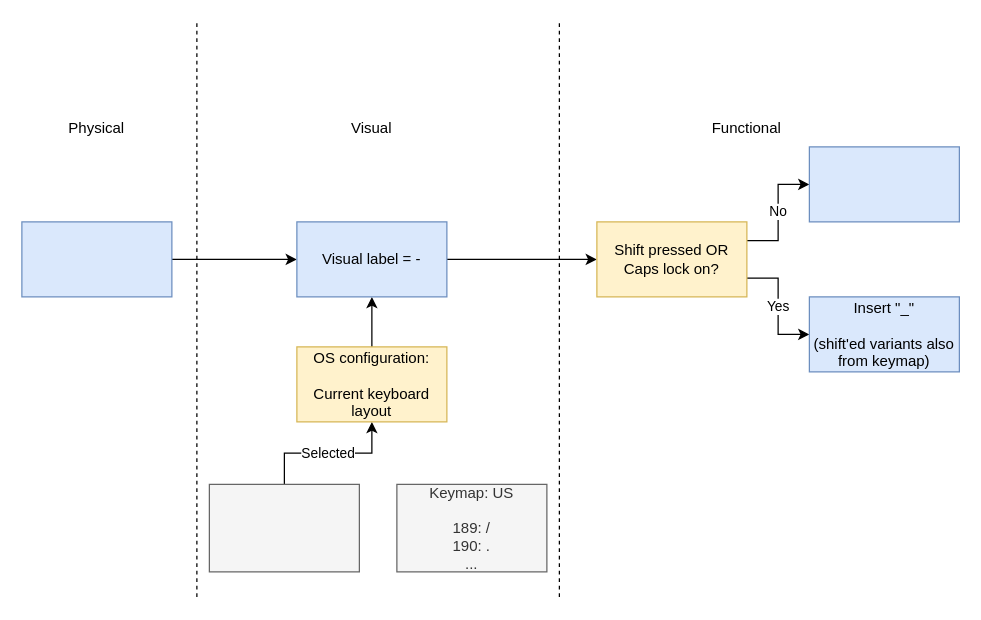
Some shapes in this 981 by 620 pixel diagram are drawn without their labels. Here are the shapes that lost their labels. From the top down, the centre of each, then its label:
pixel 883 184: Insert "-"
pixel 96 259: keycode 189
pixel 283 527: Keymap: Finnish 189: - 190: . ...
